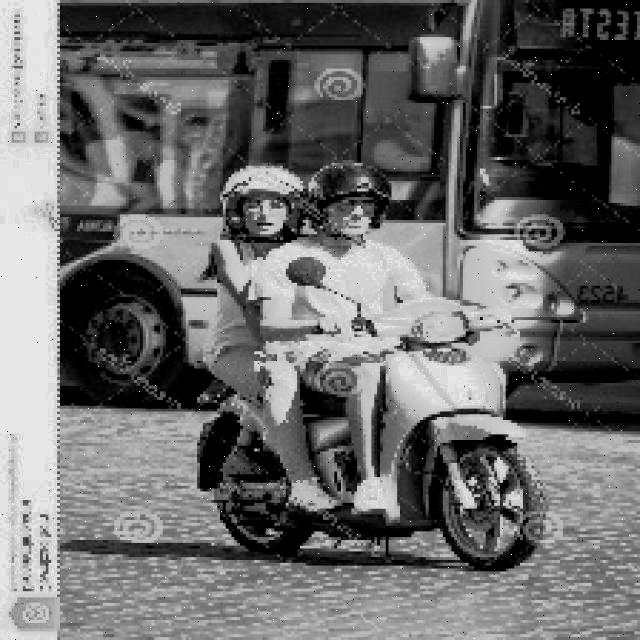Bike: (339, 272, 557, 571)
